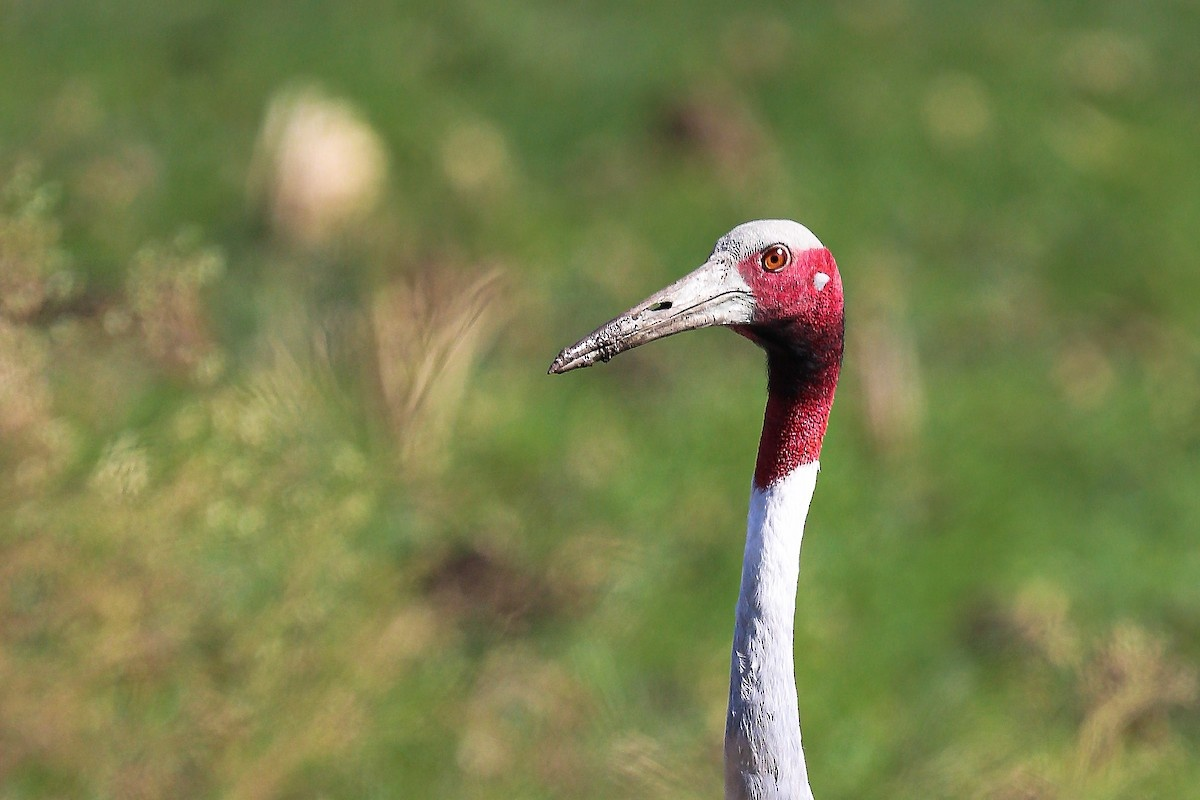crane: (540, 207, 872, 794)
